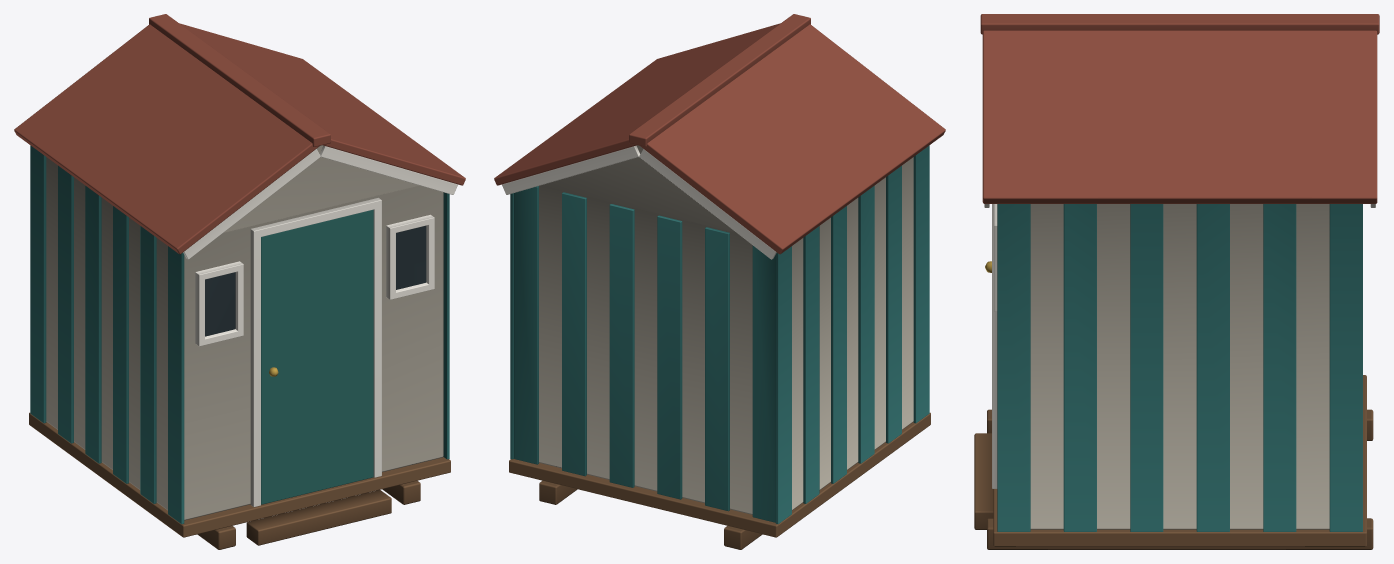
Rendered from beachHut.glb.
3 views of the same model, side by side, from view 1: azimuth 30°, elevation 25°; view 2: azimuth 150°, elevation 25°; view 3: azimuth 270°, elevation 25° (orthographic). The views are drawn at different scales.
Parts seen in each view (by area): view 1: beachHut; view 2: beachHut; view 3: beachHut.
Part boxes in pixels (x1,y1,x2,y2): beachHut: [14, 14, 465, 549]; beachHut: [494, 14, 945, 549]; beachHut: [974, 14, 1379, 549].
Bounding box in the file's own units: 1.94 × 2.51 × 1.95.
